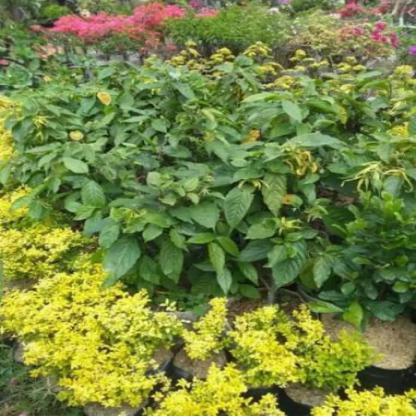Kenanga: (365, 156, 407, 185), (288, 148, 321, 178), (276, 216, 306, 240)
